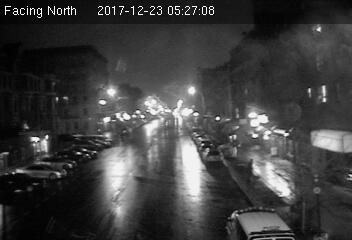car: (201, 147, 223, 163)
police: (222, 205, 294, 240)
